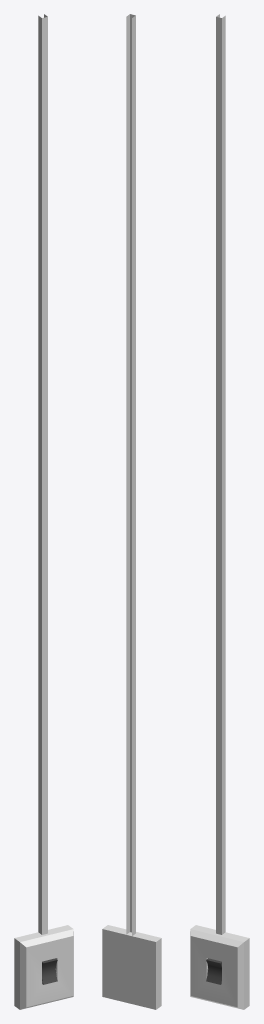
File: 72_prop_switch.FBX
3 views of the same model, side by side, from view 1: azimuth 30°, elevation 25°; view 2: azimuth 150°, elevation 25°; view 3: azimuth 330°, elevation 25° (orthographic).
Visible parts, largest first — view 1: prop_switch, prop_switch2; view 2: prop_switch; view 3: prop_switch, prop_switch2.
Boxes of the visible parts, <box> form: prop_switch: <box>14,14,73,1009</box>; prop_switch2: <box>42,958,57,984</box>; prop_switch: <box>102,14,161,1009</box>; prop_switch: <box>190,14,249,1009</box>; prop_switch2: <box>206,958,221,984</box>.
Bounding box in the file's own units: 8.58 × 150 × 2.63.
